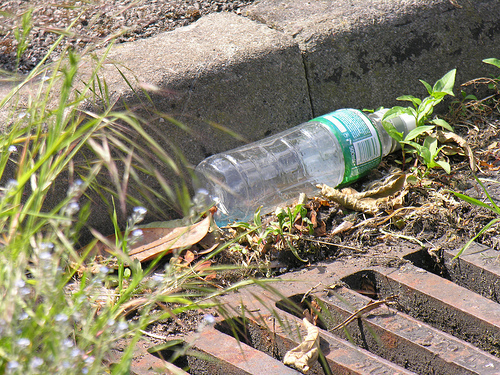litter: (190, 106, 416, 228)
